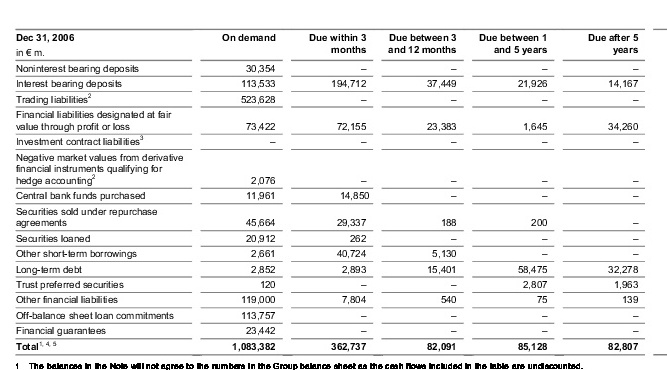table: (0, 0, 667, 370)
